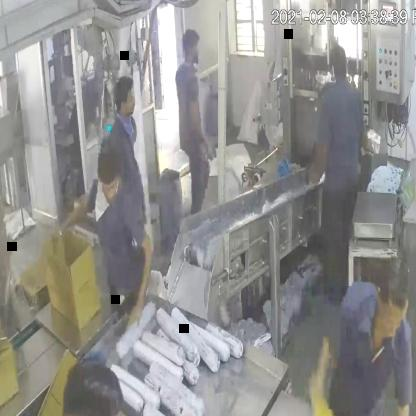no_glove: (115, 217, 159, 328), (55, 192, 107, 231)
